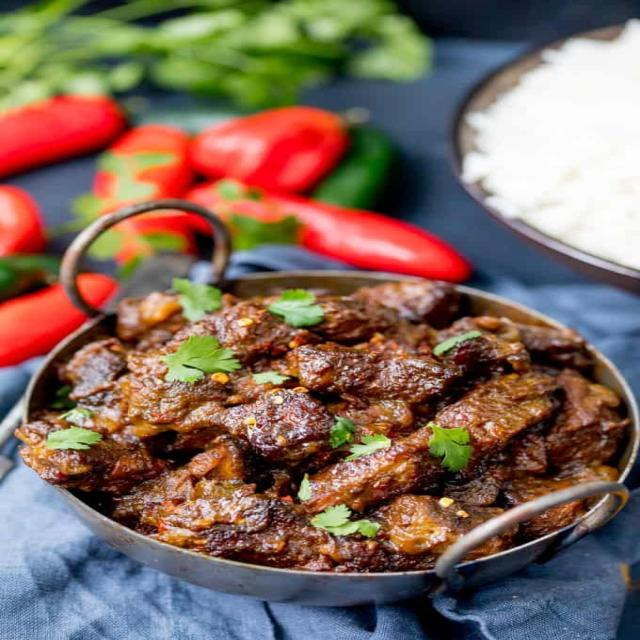Rendang: (61, 270, 613, 570)
